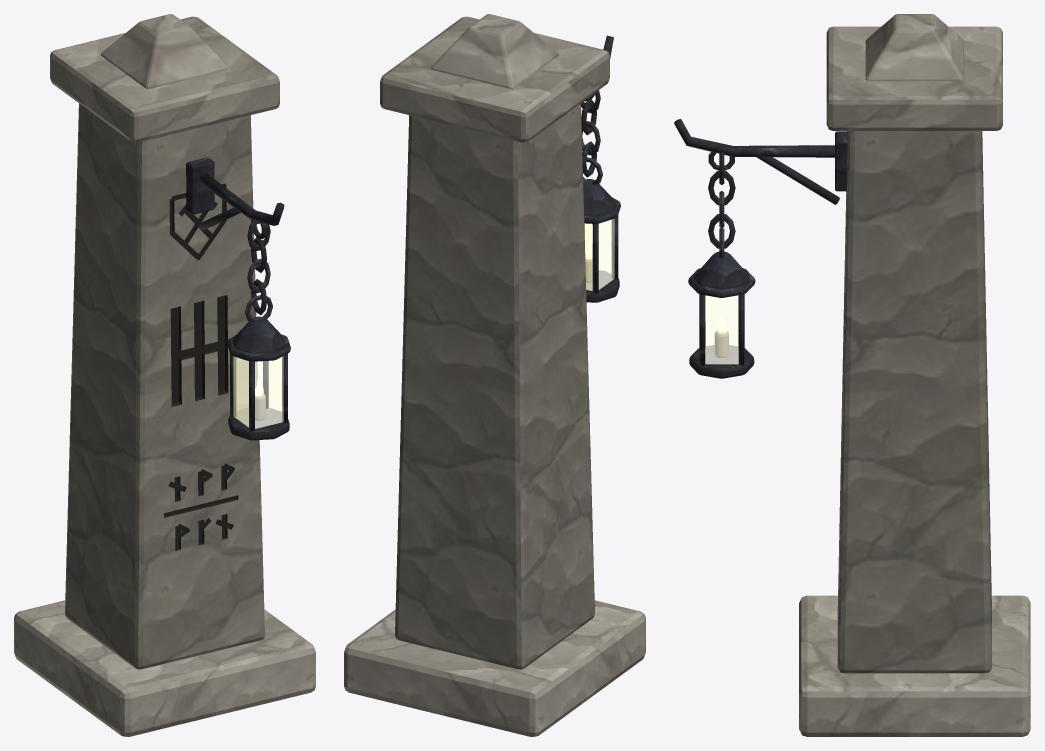
The model's file is qb_waymarker.glb.
3 views of the same model, side by side, from view 1: azimuth 30°, elevation 25°; view 2: azimuth 150°, elevation 25°; view 3: azimuth 270°, elevation 25° (orthographic). The views are drawn at different scales.
Visible parts, largest first — view 1: model; view 2: model; view 3: model.
Part boxes in pixels (left/top/right/bottom): model: left=14, top=14, right=315, bottom=736; model: left=344, top=14, right=645, bottom=736; model: left=674, top=14, right=1030, bottom=736.
Size of the model in its own units: 0.42 by 1.34 by 0.6463.
Materials: 8 (4 with a texture image).
